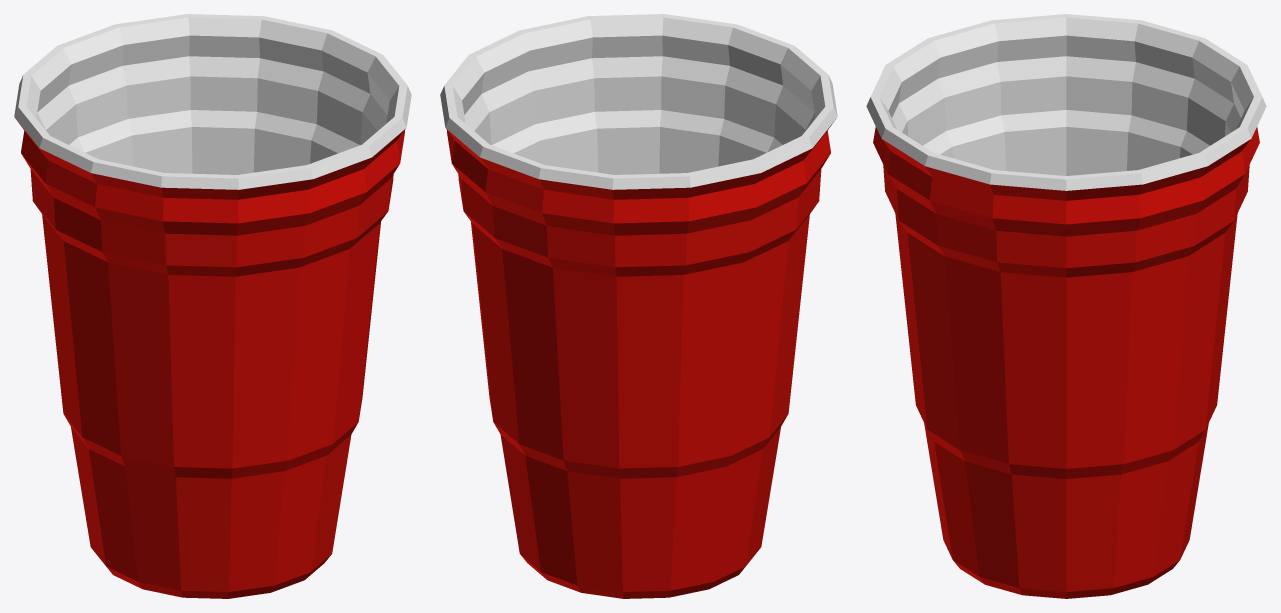
The model's file is RedCup.glb.
The picture shows the model from 3 angles, left to right: view 1: azimuth 30°, elevation 25°; view 2: azimuth 150°, elevation 25°; view 3: azimuth 270°, elevation 25°; orthographic projection.
Visible parts, largest first — view 1: Cup; view 2: Cup; view 3: Cup.
Boxes of the visible parts, box(x1,y1,x2,y2) form: Cup: box(14, 14, 411, 598); Cup: box(440, 14, 837, 598); Cup: box(866, 14, 1266, 598).
Bounding box in the file's own units: 0.096 × 0.12 × 0.096.
